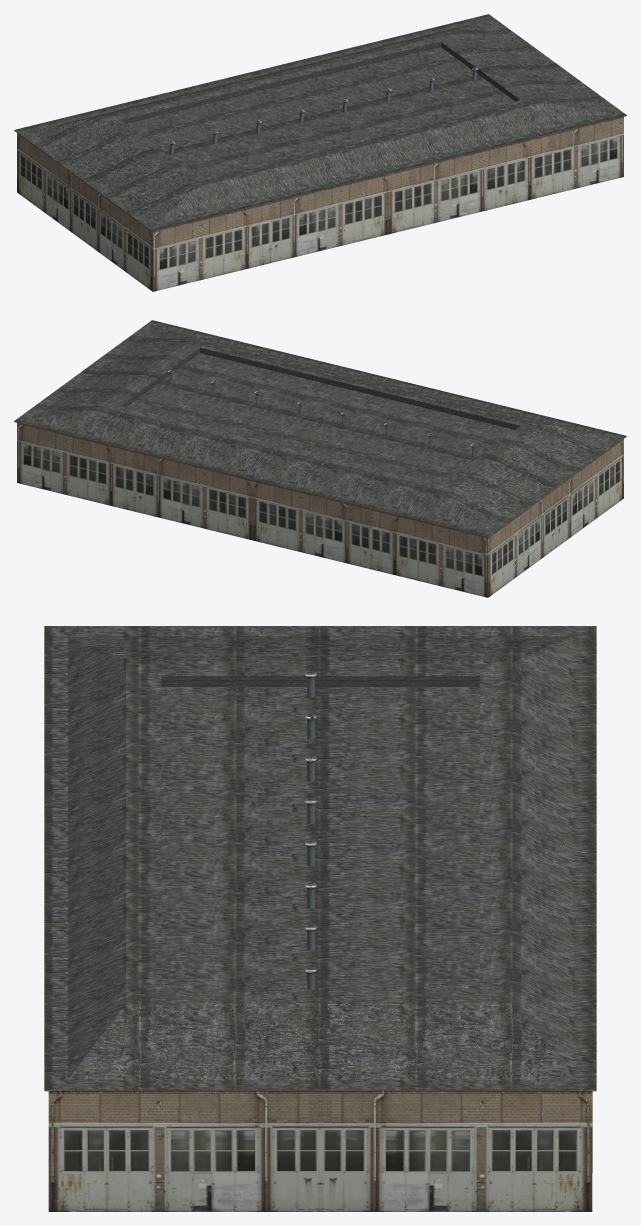
3 renders of one model, top to bottom at view 1: azimuth 30°, elevation 25°; view 2: azimuth 150°, elevation 25°; view 3: azimuth 270°, elevation 25°, orthographic. The views are drawn at different scales.
Parts seen in each view (by area): view 1: Body; view 2: Body; view 3: Body.
Part boxes in pixels (x1,y1,x2,y2): Body: [14, 14, 626, 291]; Body: [14, 320, 626, 597]; Body: [44, 626, 596, 1211].
Bounding box in the file's own units: 50.48 × 8.21 × 25.43.
Materials: 3 (3 with a texture image).
